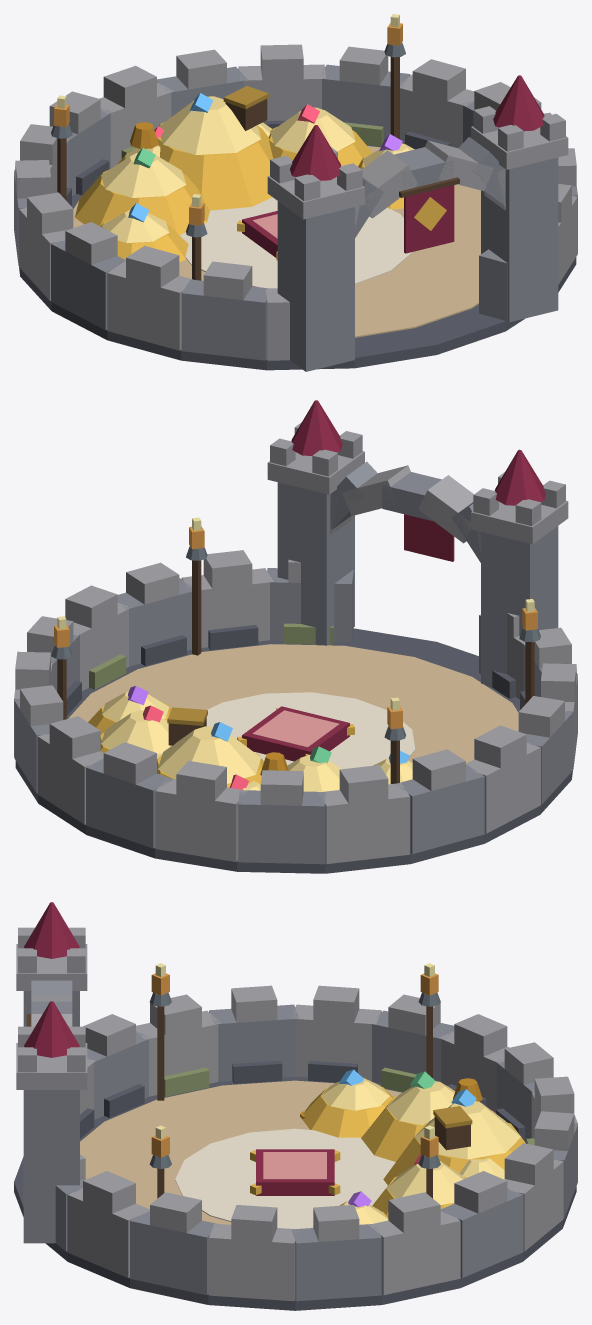
File: CatCafe_Camp_Castle_DragonKeep.glb
The picture shows the model from 3 angles, top to bottom: view 1: azimuth 30°, elevation 25°; view 2: azimuth 150°, elevation 25°; view 3: azimuth 270°, elevation 25°; orthographic projection.
Parts seen in each view (by area): view 1: CatCafe_Camp_Castle_DragonKeep, CatCafe_Camp_Castle_DragonKeep_Gold, CatCafe_Camp_Castle_DragonKeep_Gold_Glow, CatCafe_Camp_Castle_DragonKeep_Flame, CatCafe_Camp_Castle_DragonKeep_Cushion; view 2: CatCafe_Camp_Castle_DragonKeep, CatCafe_Camp_Castle_DragonKeep_Gold, CatCafe_Camp_Castle_DragonKeep_Cushion, CatCafe_Camp_Castle_DragonKeep_Flame, CatCafe_Camp_Castle_DragonKeep_Gold_Glow; view 3: CatCafe_Camp_Castle_DragonKeep, CatCafe_Camp_Castle_DragonKeep_Gold, CatCafe_Camp_Castle_DragonKeep_Cushion, CatCafe_Camp_Castle_DragonKeep_Flame, CatCafe_Camp_Castle_DragonKeep_Gold_Glow.
Part boxes in pixels (<box>): CatCafe_Camp_Castle_DragonKeep: <box>14,42,577,371</box>; CatCafe_Camp_Castle_DragonKeep_Gold: <box>75,86,414,262</box>; CatCafe_Camp_Castle_DragonKeep_Gold_Glow: <box>128,93,402,222</box>; CatCafe_Camp_Castle_DragonKeep_Flame: <box>54,14,402,225</box>; CatCafe_Camp_Castle_DragonKeep_Cushion: <box>237,211,277,260</box>; CatCafe_Camp_Castle_DragonKeep: <box>14,400,577,873</box>; CatCafe_Camp_Castle_DragonKeep_Gold: <box>88,691,412,791</box>; CatCafe_Camp_Castle_DragonKeep_Cushion: <box>237,706,354,761</box>; CatCafe_Camp_Castle_DragonKeep_Flame: <box>54,517,537,729</box>; CatCafe_Camp_Castle_DragonKeep_Gold_Glow: <box>128,686,409,789</box>; CatCafe_Camp_Castle_DragonKeep: <box>14,902,577,1310</box>; CatCafe_Camp_Castle_DragonKeep_Gold: <box>300,1077,525,1227</box>; CatCafe_Camp_Castle_DragonKeep_Cushion: <box>250,1149,340,1195</box>; CatCafe_Camp_Castle_DragonKeep_Flame: <box>151,963,438,1157</box>; CatCafe_Camp_Castle_DragonKeep_Gold_Glow: <box>339,1069,495,1207</box>.
Bounding box in the file's own units: 15.08 × 7.05 × 15.04.
Materials: 1 (1 with a texture image).
